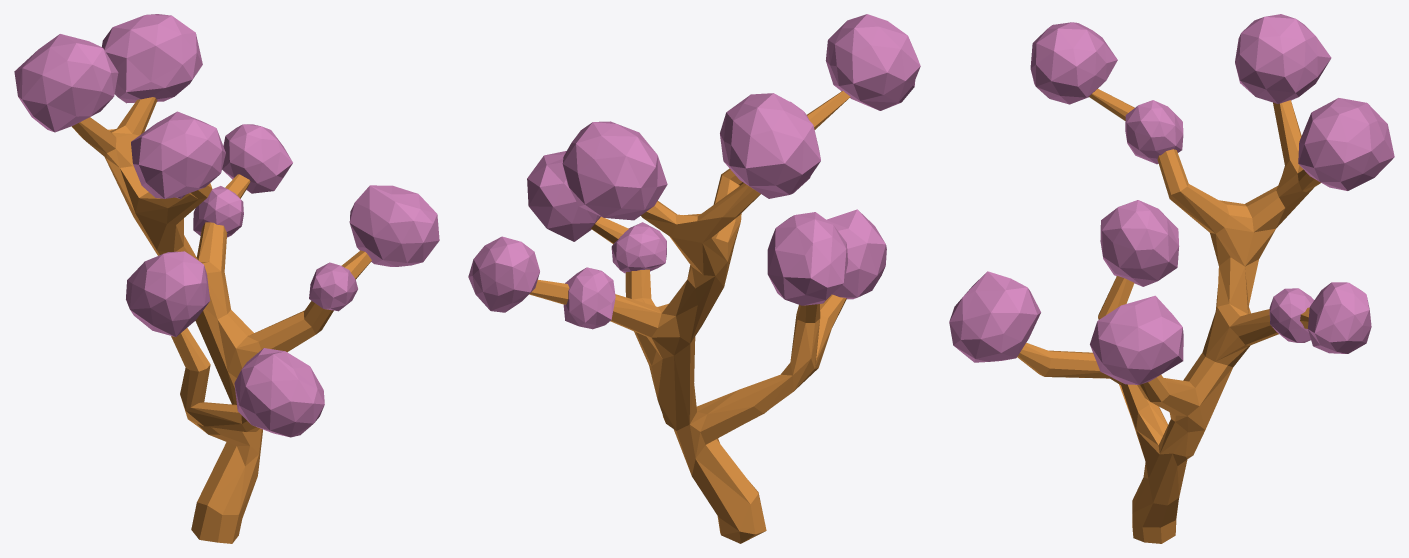
Rendered from tree2.fbx.
The picture shows the model from 3 angles, left to right: view 1: azimuth 30°, elevation 25°; view 2: azimuth 150°, elevation 25°; view 3: azimuth 270°, elevation 25°; orthographic projection. The views are drawn at different scales.
Parts seen in each view (by area): view 1: Cube, Icosphere.002, Icosphere.001, Icosphere.003, Icosphere.005, Icosphere.004, Icosphere.006, Icosphere, Icosphere.008, Icosphere.009; view 2: Cube, Icosphere.002, Icosphere.001, Icosphere.003, Icosphere.006, Icosphere, Icosphere.004, Icosphere.005, Icosphere.009, Icosphere.008; view 3: Cube, Icosphere.001, Icosphere.002, Icosphere.004, Icosphere.005, Icosphere.003, Icosphere.006, Icosphere, Icosphere.007, Icosphere.009.
Boxes of the visible parts, bbox=[...] form: Cube: bbox=[71, 97, 371, 543]; Icosphere.002: bbox=[14, 34, 118, 132]; Icosphere.001: bbox=[102, 14, 202, 103]; Icosphere.003: bbox=[131, 111, 225, 198]; Icosphere.005: bbox=[234, 348, 324, 437]; Icosphere.004: bbox=[349, 185, 439, 266]; Icosphere.006: bbox=[126, 251, 210, 336]; Icosphere: bbox=[222, 124, 292, 193]; Icosphere.008: bbox=[309, 262, 357, 311]; Icosphere.009: bbox=[193, 186, 243, 237]; Cube: bbox=[529, 91, 850, 543]; Icosphere.002: bbox=[720, 93, 820, 198]; Icosphere.001: bbox=[562, 121, 667, 220]; Icosphere.003: bbox=[825, 14, 920, 110]; Icosphere.006: bbox=[767, 212, 847, 305]; Icosphere: bbox=[468, 236, 539, 312]; Icosphere.004: bbox=[527, 151, 600, 241]; Icosphere.005: bbox=[826, 209, 886, 299]; Icosphere.009: bbox=[563, 267, 615, 329]; Icosphere.008: bbox=[611, 222, 666, 273]; Cube: bbox=[1017, 89, 1320, 543]; Icosphere.001: bbox=[1298, 98, 1394, 190]; Icosphere.002: bbox=[1235, 14, 1331, 103]; Icosphere.004: bbox=[1090, 295, 1183, 384]; Icosphere.005: bbox=[949, 271, 1040, 362]; Icosphere.003: bbox=[1030, 22, 1117, 104]; Icosphere.006: bbox=[1100, 200, 1179, 286]; Icosphere: bbox=[1308, 282, 1371, 353]; Icosphere.007: bbox=[1125, 100, 1183, 164]; Icosphere.009: bbox=[1269, 288, 1314, 342].
Size of the model in its own units: 511 by 684 by 574.
